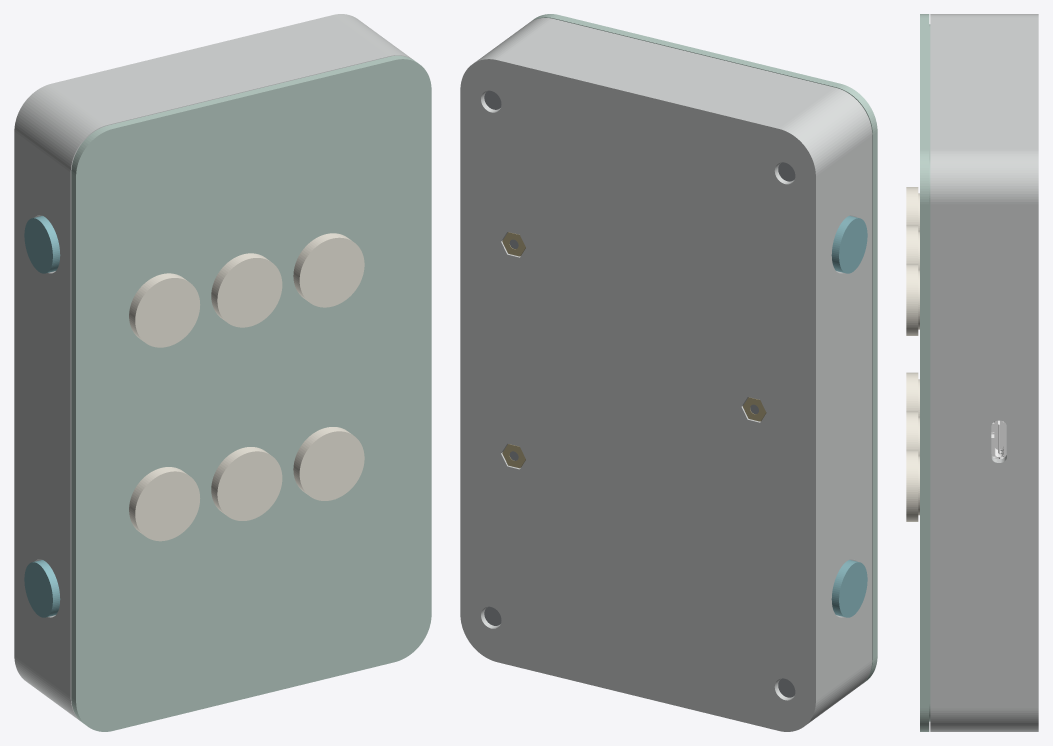
File: assembly-S02.glb
3 renders of one model, left to right at view 1: azimuth 30°, elevation 25°; view 2: azimuth 150°, elevation 25°; view 3: azimuth 270°, elevation 25°, orthographic. The views are drawn at different scales.
Visible parts, largest first — view 1: lid, base, cap_6, cap_5, cap_4, cap_1, cap_2, cap_3, side_cap_1, side_cap_0; view 2: base, lid, side_cap_1, side_cap_0; view 3: base, lid, cap_3, cap_6, cap_1, cap_2, cap_5, cap_4, STEP_part_672.
Boxes of the visible parts, <box> form: lid: <box>71,55,431,731</box>; base: <box>14,14,411,721</box>; cap_6: <box>293,233,364,307</box>; cap_5: <box>211,253,282,327</box>; cap_4: <box>129,273,200,347</box>; cap_1: <box>129,467,200,541</box>; cap_2: <box>211,447,282,520</box>; cap_3: <box>293,427,364,500</box>; side_cap_1: <box>24,215,60,273</box>; side_cap_0: <box>24,560,60,617</box>; base: <box>460,18,872,731</box>; lid: <box>532,14,877,683</box>; side_cap_1: <box>831,215,867,273</box>; side_cap_0: <box>831,560,867,617</box>; base: <box>930,14,1038,731</box>; lid: <box>920,14,930,731</box>; cap_3: <box>906,450,919,521</box>; cap_6: <box>906,264,919,335</box>; cap_1: <box>906,372,919,417</box>; cap_2: <box>906,411,919,456</box>; cap_5: <box>906,225,919,270</box>; cap_4: <box>906,187,919,231</box>; STEP_part_672: <box>994,420,1003,457</box>.
Bounding box in the file's own units: 0.0881 × 0.14 × 0.029.
